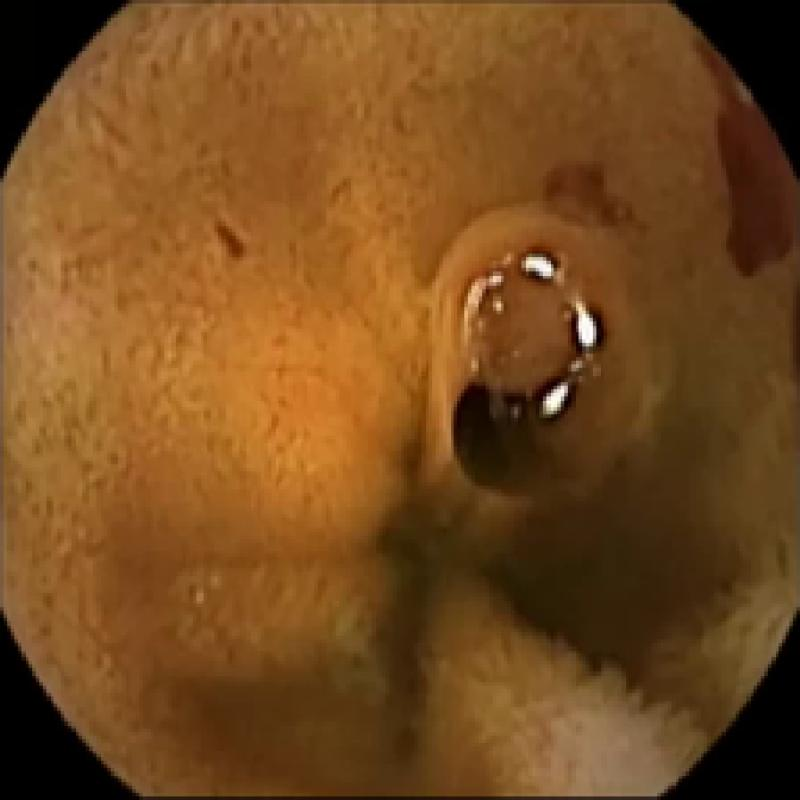bleeding: (696, 32, 800, 275), (538, 151, 646, 239), (206, 214, 252, 260)
